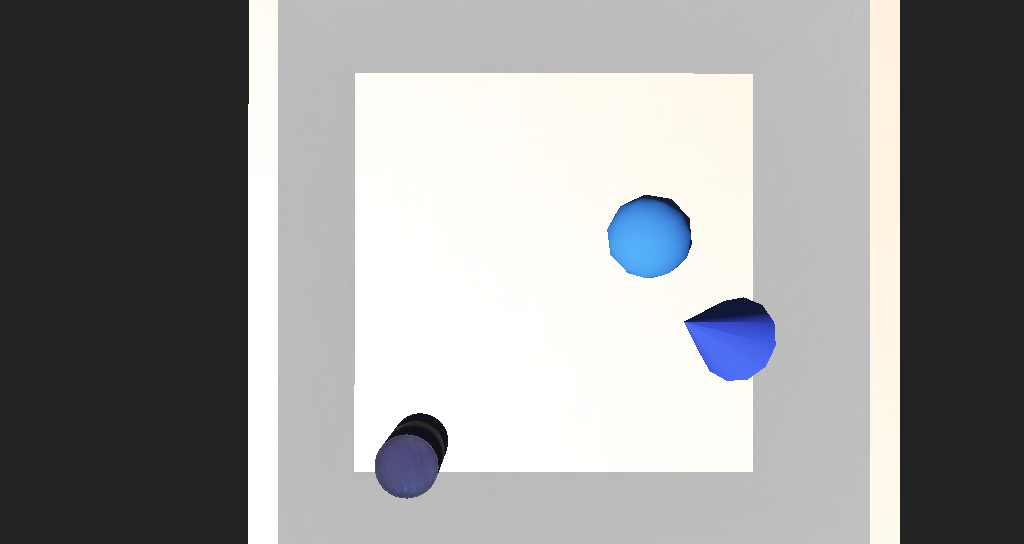cone: (371, 346, 424, 389)
cylinder: (563, 262, 691, 339)
sphere: (549, 224, 610, 272)
